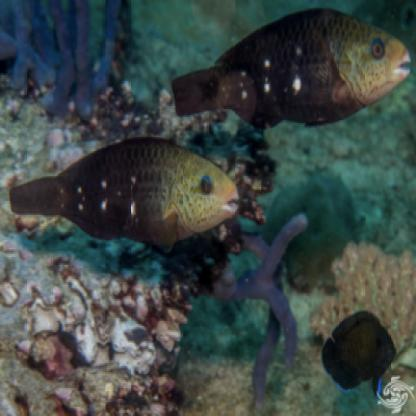damsel: (322, 305, 399, 403)
parrot: (169, 3, 413, 129), (10, 136, 242, 252)
